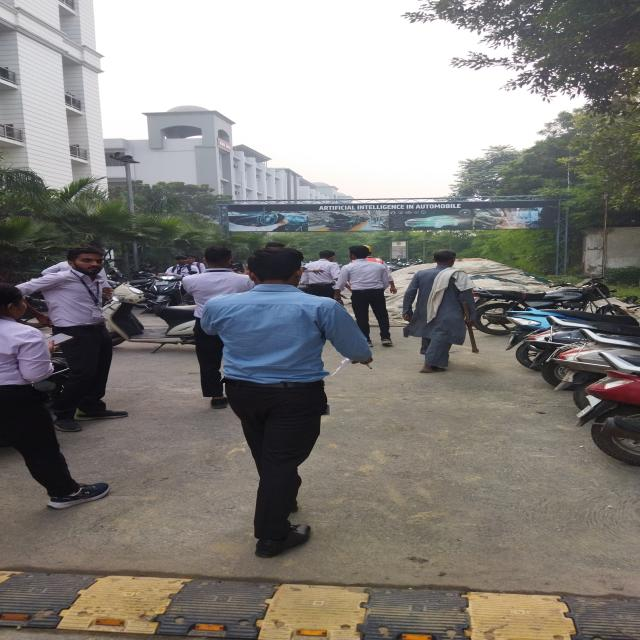unsafe: (202, 245, 375, 561), (24, 244, 132, 436), (405, 252, 483, 378), (342, 244, 393, 354)
